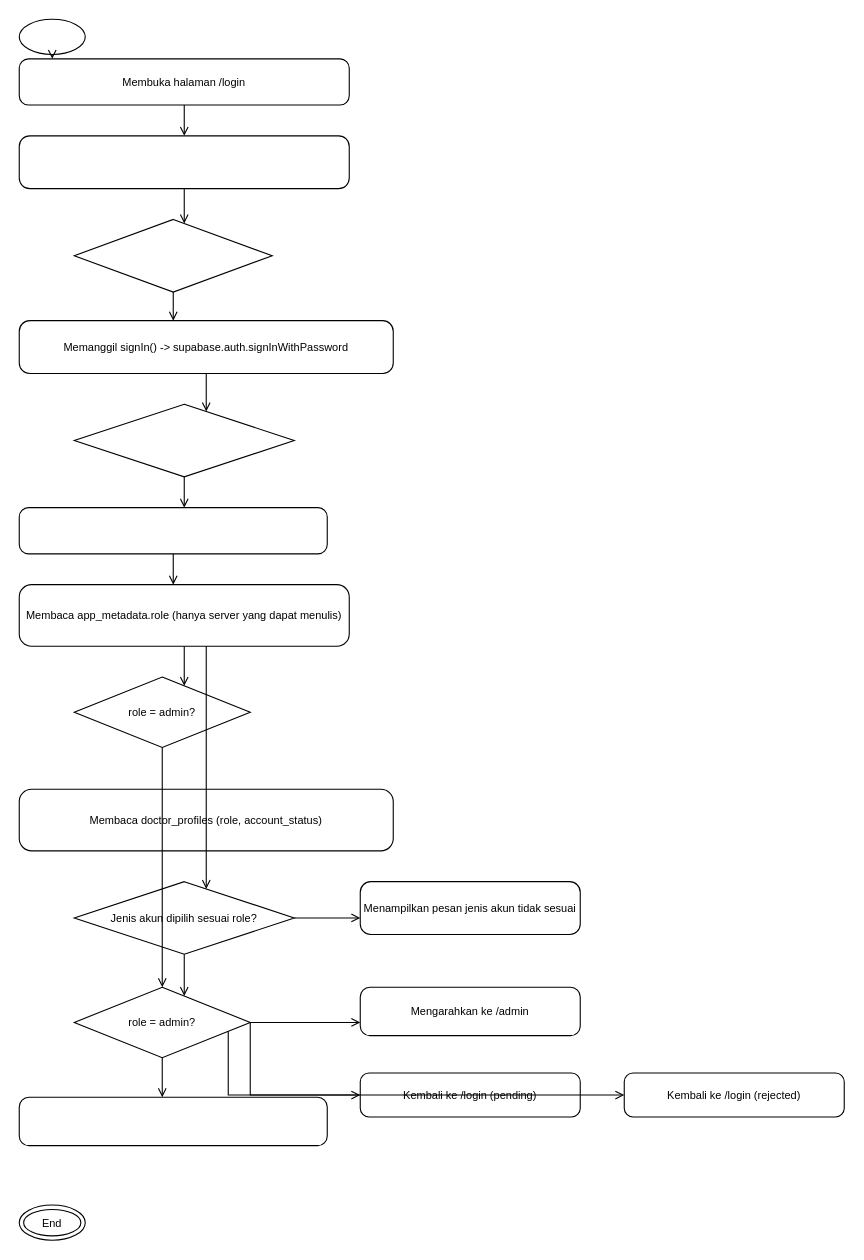
This 864x1260 diagram has some shape labels left out. Each missing label, with the centre of its shape:
"Input valid?" goes at point 172,255.
"Kredensial valid?" goes at point 183,440.
"Mengarahkan ke /dashboard" goes at point 172,1121.
"Mengisi email, kata sandi, memilih jenis akun" goes at point 183,162.
"Menyimpan sesi (AuthContext)" goes at point 172,530.
"Start" goes at point 51,36.
